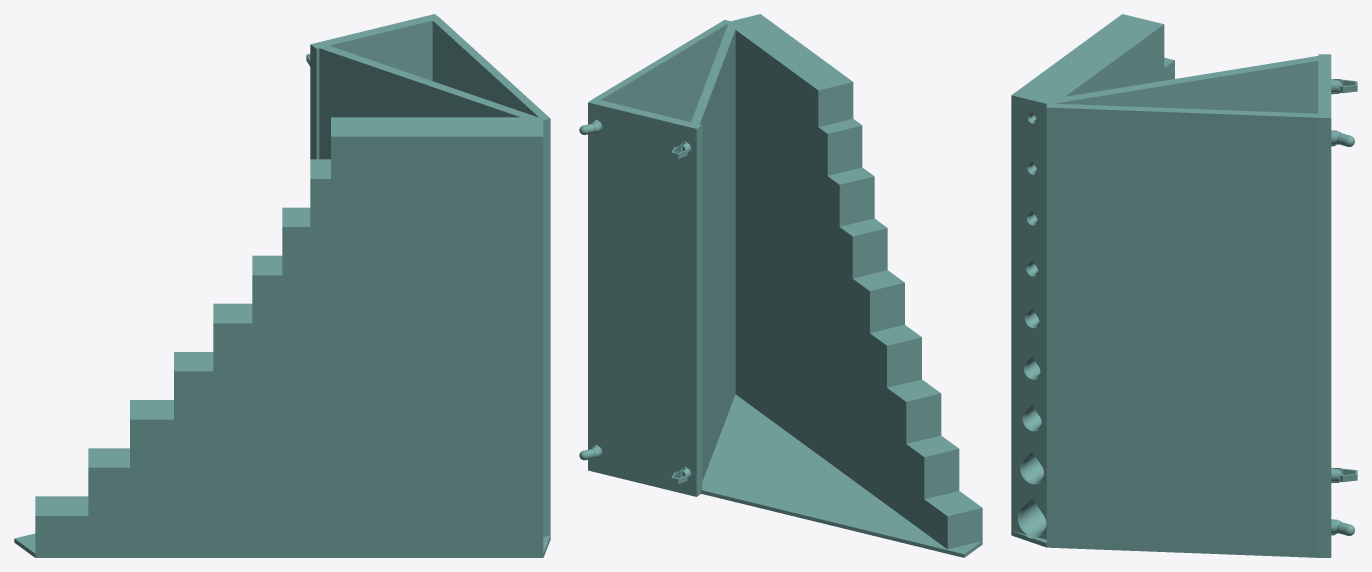
The model's file is part-hx02__v1__right-cheek__fit-pf02c9-hoop5__print.glb.
3 renders of one model, left to right at view 1: azimuth 30°, elevation 25°; view 2: azimuth 150°, elevation 25°; view 3: azimuth 270°, elevation 25°, orthographic. The views are drawn at different scales.
Visible parts, largest first — view 1: holder; view 2: holder; view 3: holder.
Part boxes in pixels (box(x1,y1,x2,y2)): holder: box(14, 14, 550, 557); holder: box(579, 14, 982, 557); holder: box(1011, 14, 1357, 557).
Bounding box in the file's own units: 0.213 × 0.2012 × 0.1435.
